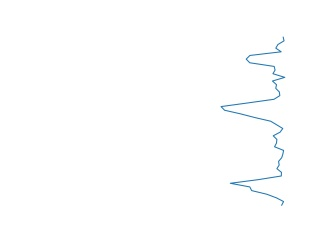underwaterNaturalLevee: (215, 35, 290, 208)
